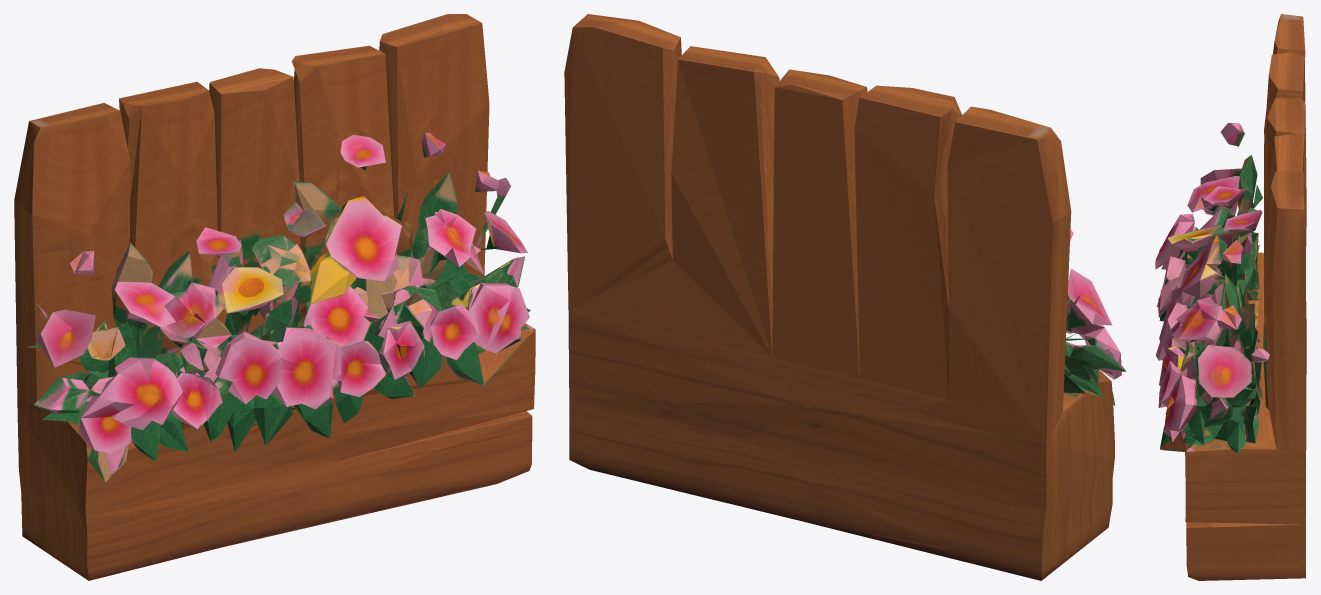
Rendered from planter_box.glb.
3 views of the same model, side by side, from view 1: azimuth 30°, elevation 25°; view 2: azimuth 150°, elevation 25°; view 3: azimuth 270°, elevation 25° (orthographic). The views are drawn at different scales.
Size of the model in its own units: 1.82 by 1.46 by 0.5318.
Materials: 1 (1 with a texture image).
